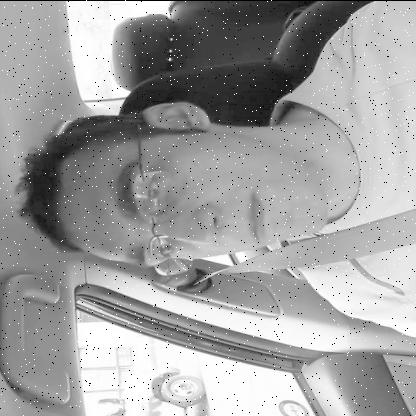seatbelt: (13, 90, 416, 276)
